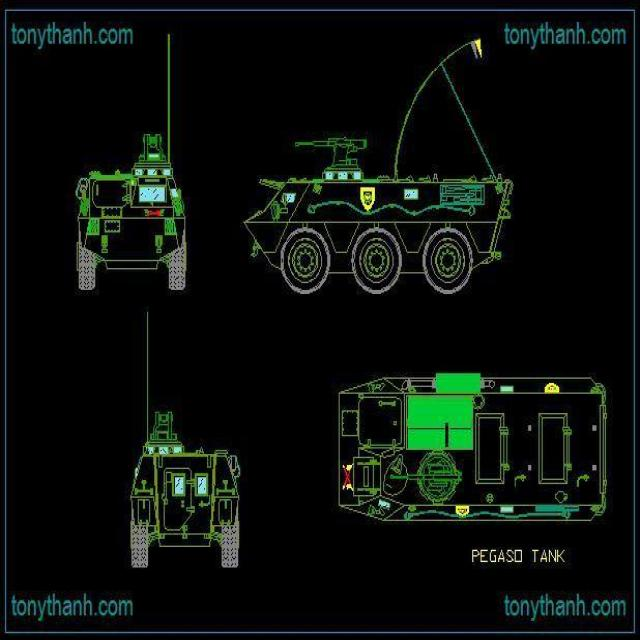Tanks: (330, 362, 614, 540), (239, 127, 520, 302), (130, 360, 244, 606), (70, 136, 199, 310)
